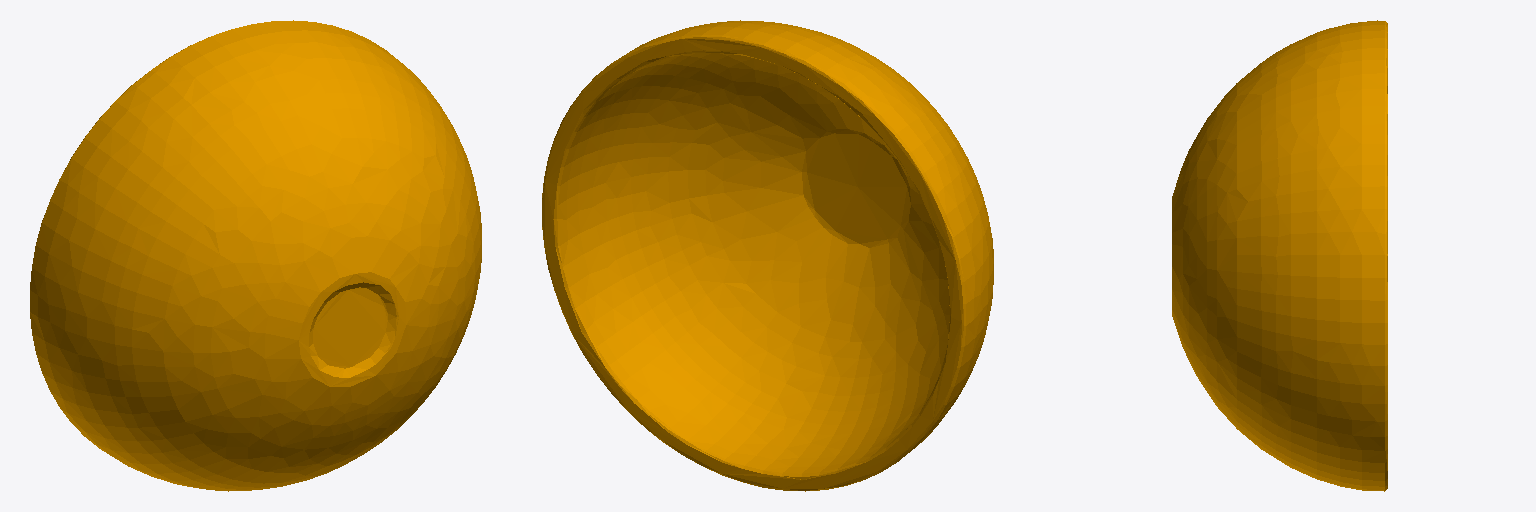
The robot description file, URDF, robot "smallbowl1":
<?xml version="1.0"?>
<robot name="smallbowl1">
  <link name="smallbowl1">
    <visual>
      <origin xyz="0.0 0.0 0.0"/>
      <geometry>
        <mesh filename="smallbowl1.obj" scale="1.0 1.0 1.0"/>
      </geometry>
    </visual>
    <collision concave = "yes">
      <origin xyz="0.0 0.0 0.0"/>
      <geometry>
        <mesh filename="smallbowl1.obj" scale="1.0 1.0 1.0"/>
      </geometry>
    </collision>
    <inertial>
      <!-- Mass value from the *empty* spam can. Full spam can is 368g -->
      <mass value="0.33"/> 
      <inertia ixx="0.0001" ixy="0.0" ixz="0.0" iyy="0.0001" iyz="0.0" izz="0.0001"/>
    </inertial>
  </link>
</robot>

--- Facts derived from the render (not from the file) ---
3 views of the same robot in one strip: view 1: azimuth 30°, elevation 25°; view 2: azimuth 150°, elevation 25°; view 3: azimuth 270°, elevation 25° (orthographic).
Robot: smallbowl1 — 1 links, 0 joints (none); root link smallbowl1; default pose: every joint at zero.
Visible links, largest first — view 1: smallbowl1; view 2: smallbowl1; view 3: smallbowl1.
Link boxes in pixels (x1,y1,x2,y2): smallbowl1: [30, 20, 481, 491]; smallbowl1: [542, 20, 993, 491]; smallbowl1: [1172, 20, 1387, 491].
Size in the robot's own frame: 0.1999 by 0.092 by 0.1999 metres.
1 mesh visuals loaded from 1 distinct referenced files (1 OBJ).
